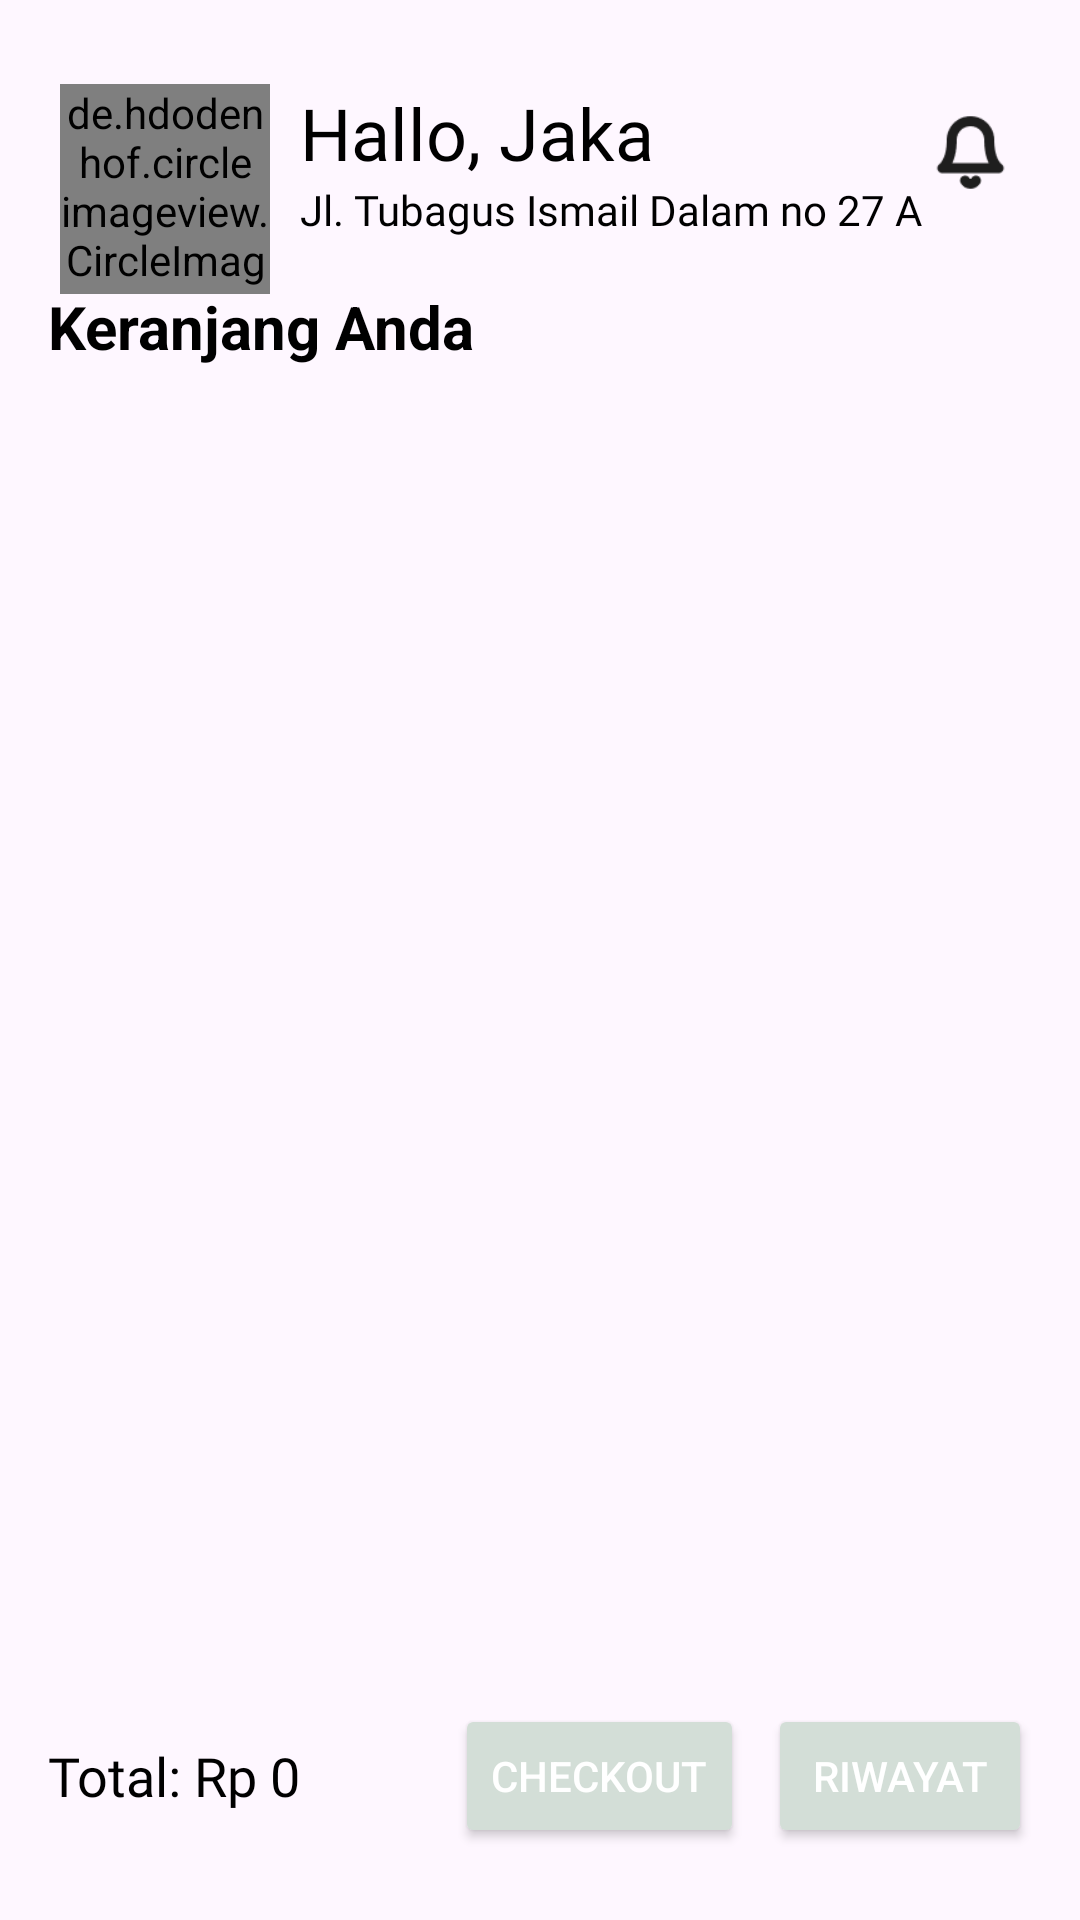

Screen size 1080 × 1920. Icon name, then its center in pixels as point (x, y):
notification: point (970, 152)
